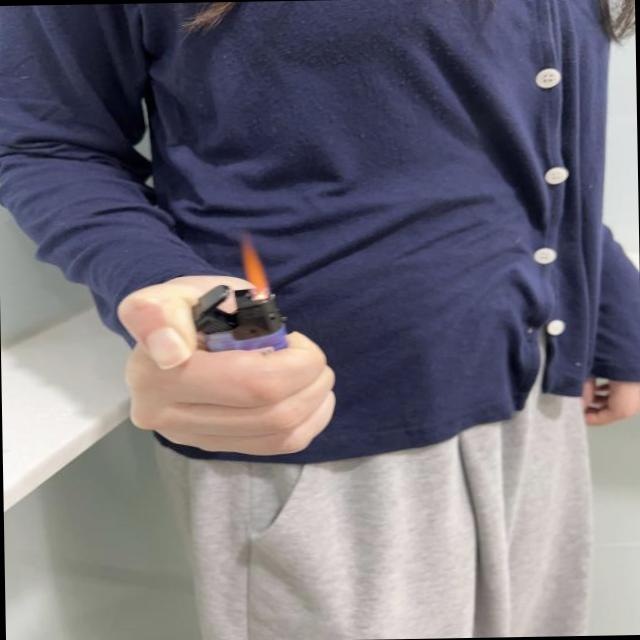fire: (240, 239, 272, 302)
